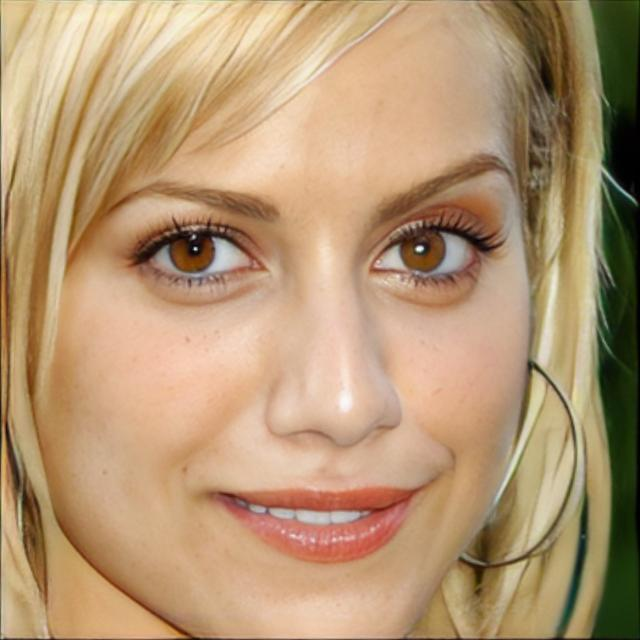content: (40, 0, 532, 640)
